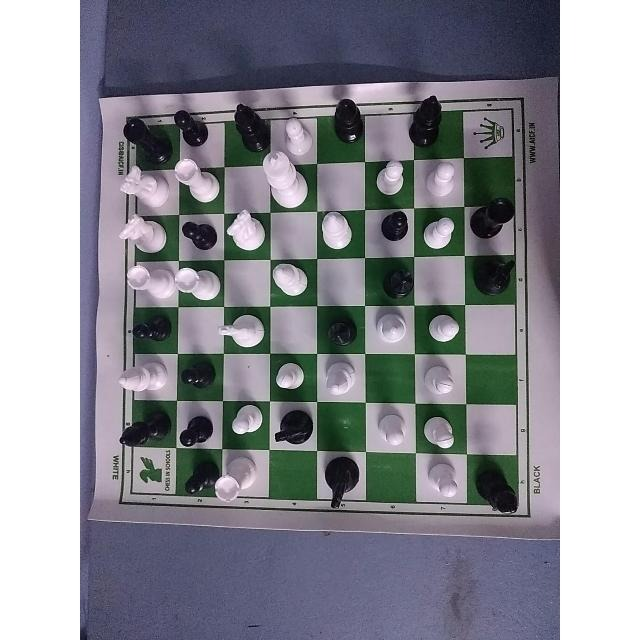black-bishop: (480, 461, 528, 524), (334, 94, 374, 151), (114, 410, 170, 450), (411, 96, 450, 146), (321, 312, 360, 356), (230, 102, 265, 146), (377, 263, 411, 303)
black-knight: (468, 255, 521, 305), (325, 459, 362, 517), (270, 408, 320, 444)
black-pawn: (131, 302, 171, 351), (170, 106, 214, 146), (178, 217, 219, 257), (181, 356, 220, 395), (180, 412, 214, 456), (185, 457, 213, 509), (380, 210, 405, 249)
black-rook: (468, 193, 517, 245), (118, 113, 173, 155)
white-bishop: (109, 356, 170, 398), (268, 256, 318, 304), (370, 308, 414, 356), (314, 210, 360, 253), (324, 358, 358, 399)
white-king: (264, 151, 306, 211)
white-knight: (225, 211, 264, 262), (118, 210, 166, 250), (221, 305, 261, 350), (126, 162, 166, 206)
white-pawn: (422, 410, 470, 458), (421, 459, 471, 505), (274, 110, 319, 154), (371, 404, 409, 454), (424, 306, 468, 348), (226, 403, 264, 445), (375, 157, 414, 196), (420, 161, 463, 196), (274, 355, 309, 397), (425, 206, 455, 253), (424, 364, 454, 404)
white-rook: (170, 157, 222, 201), (177, 254, 223, 302), (119, 255, 174, 294), (218, 459, 260, 507)
